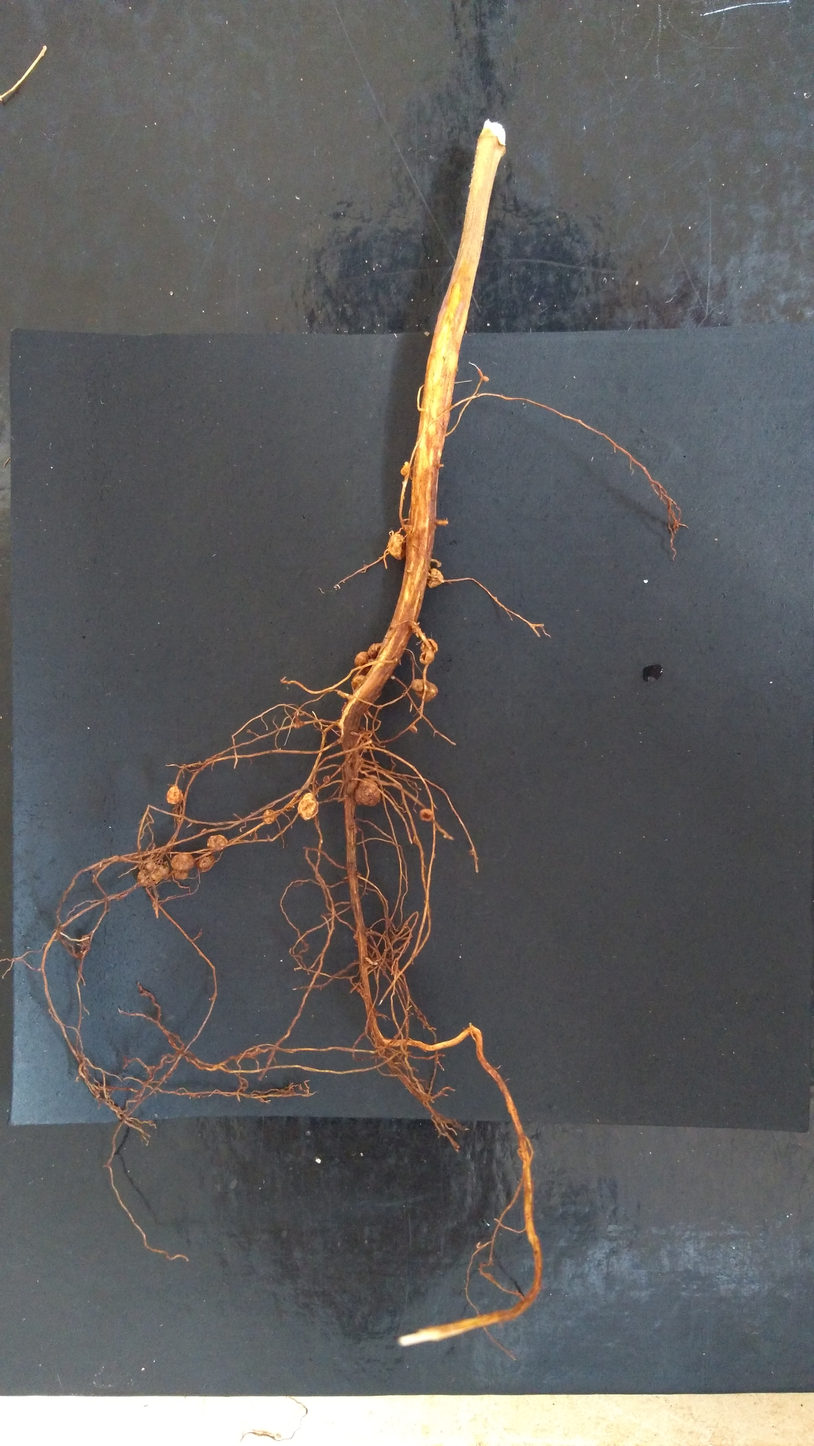nodule: (353, 777, 384, 809), (296, 792, 321, 822), (413, 678, 440, 702), (386, 532, 408, 561), (352, 649, 375, 673), (170, 851, 196, 872), (426, 566, 445, 590), (165, 784, 184, 805), (205, 834, 230, 849), (195, 855, 217, 871), (417, 806, 435, 824), (420, 637, 439, 654), (350, 673, 367, 691), (367, 641, 383, 660), (135, 868, 151, 887), (346, 778, 360, 798), (418, 651, 436, 666), (399, 460, 411, 479), (262, 809, 276, 825), (158, 860, 170, 877), (410, 678, 424, 692), (173, 870, 190, 881), (145, 861, 157, 871), (322, 775, 331, 785)
